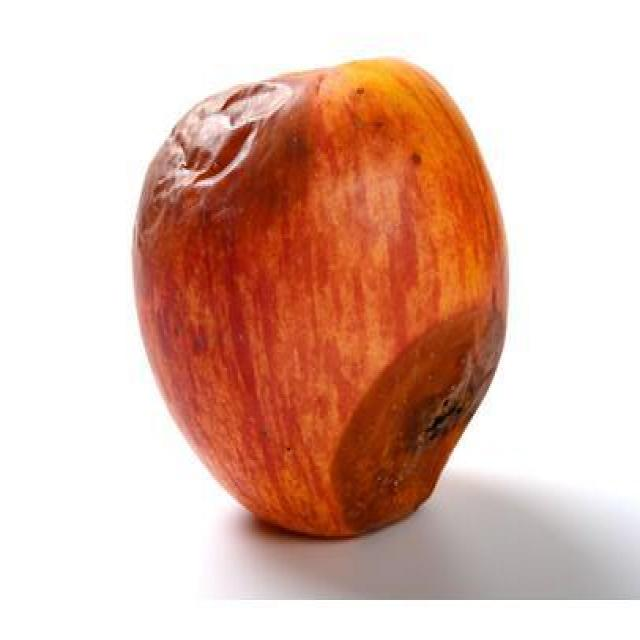Rotten: (139, 65, 499, 531)
